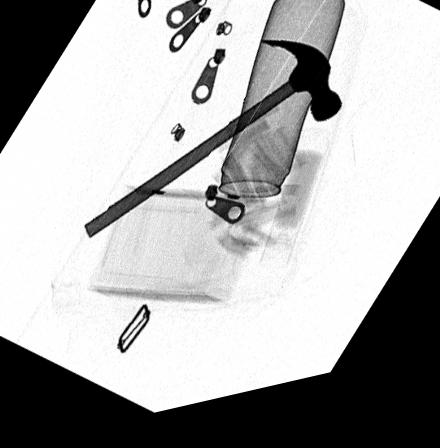Hammer: (81, 51, 341, 242)
